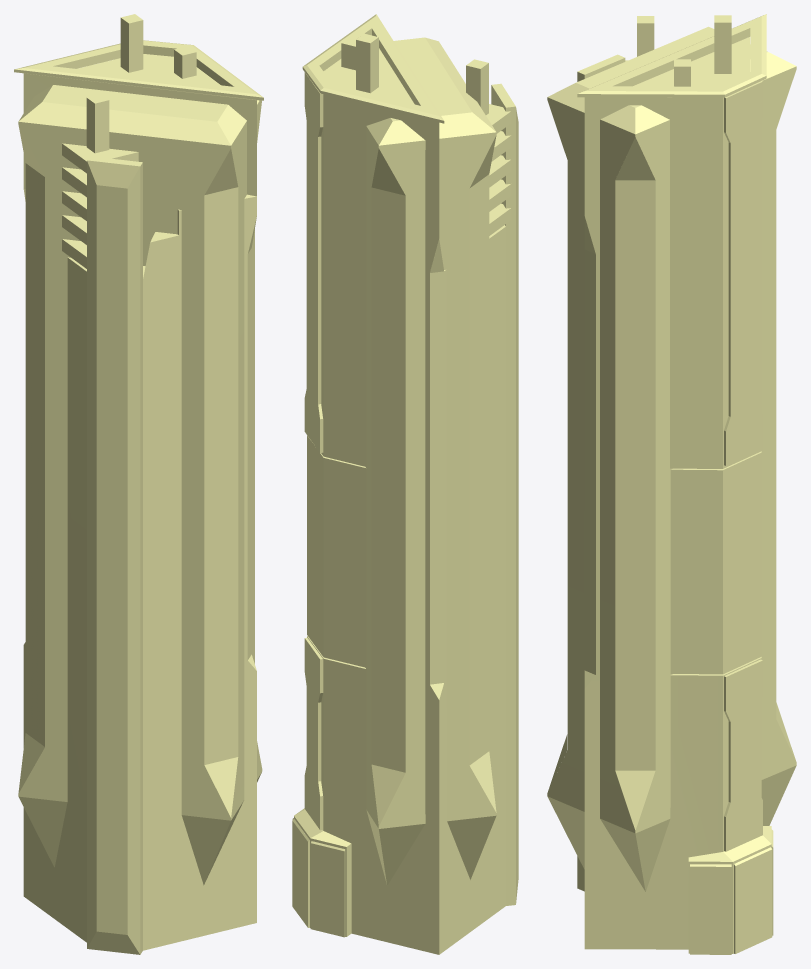
Rendered from MangaKa Props - F_S_ScifiBuilding_15.glb.
3 views of the same model, side by side, from view 1: azimuth 30°, elevation 25°; view 2: azimuth 150°, elevation 25°; view 3: azimuth 270°, elevation 25° (orthographic). The views are drawn at different scales.
Visible parts, largest first — view 1: F_S_ScifiBuilding_15003_blueScreen, F_S_ScifiBuilding_15_blueScreen, F_S_ScifiBuilding_15001_blueScreen; view 2: F_S_ScifiBuilding_15_blueScreen, F_S_ScifiBuilding_15001_blueScreen, F_S_ScifiBuilding_15003_blueScreen, F_S_ScifiBuilding_15002_blueScreen; view 3: F_S_ScifiBuilding_15001_blueScreen, F_S_ScifiBuilding_15_blueScreen, F_S_ScifiBuilding_15002_blueScreen, F_S_ScifiBuilding_15003_blueScreen.
Part boxes in pixels (x1,y1,x2,y2): F_S_ScifiBuilding_15003_blueScreen: (18,125,238,954); F_S_ScifiBuilding_15_blueScreen: (14,40,263,954); F_S_ScifiBuilding_15001_blueScreen: (18,14,262,885); F_S_ScifiBuilding_15_blueScreen: (294,14,515,954); F_S_ScifiBuilding_15001_blueScreen: (323,33,496,885); F_S_ScifiBuilding_15003_blueScreen: (371,104,518,902); F_S_ScifiBuilding_15002_blueScreen: (292,72,366,937); F_S_ScifiBuilding_15001_blueScreen: (547,15,796,891); F_S_ScifiBuilding_15_blueScreen: (577,14,771,953); F_S_ScifiBuilding_15002_blueScreen: (670,81,773,954); F_S_ScifiBuilding_15003_blueScreen: (548,60,796,830).
Bounding box in the file's own units: 7.27 × 28.94 × 7.27.
